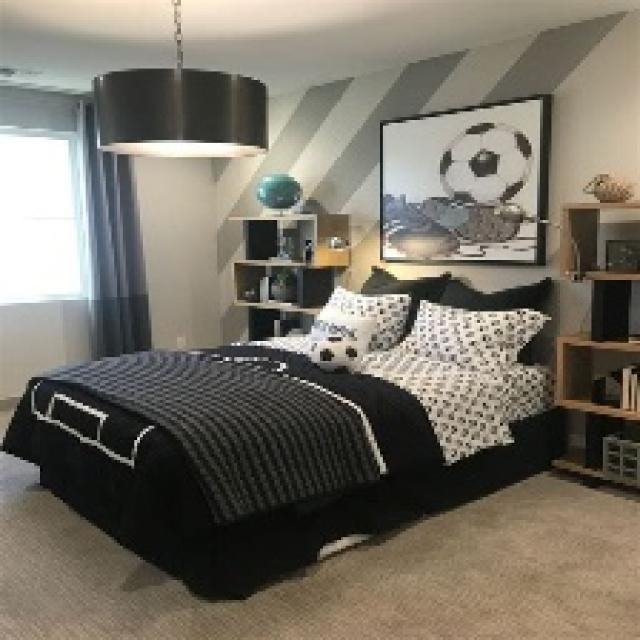Bed: (0, 266, 560, 597)
